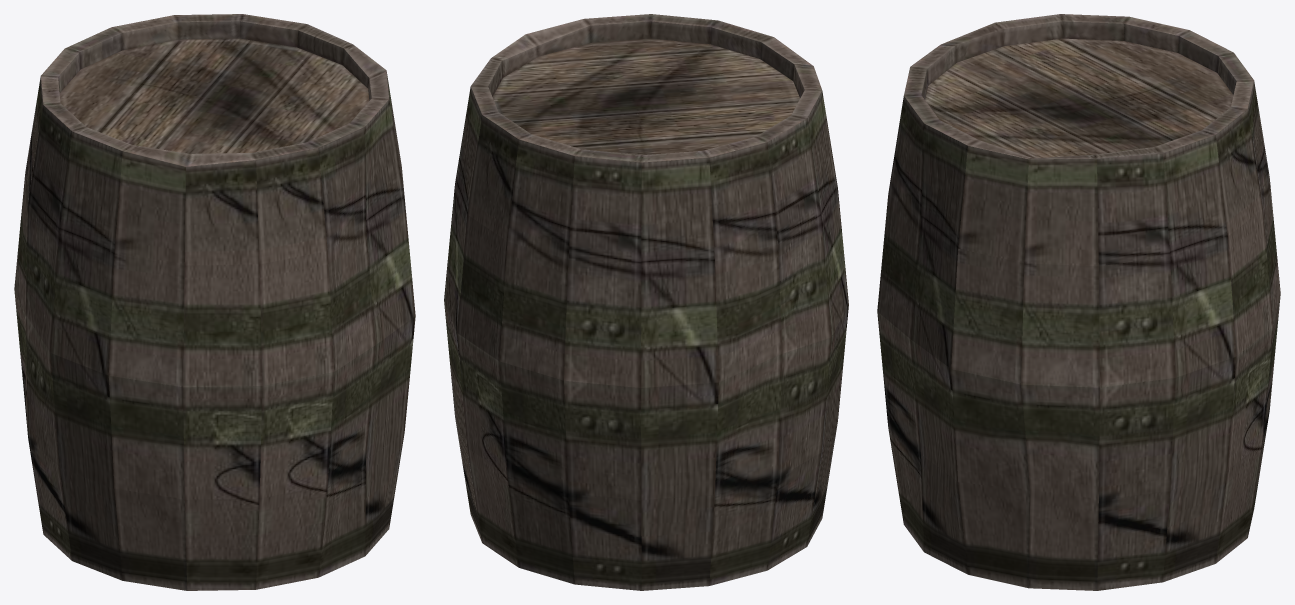
File: Barrel_Oga_Damaged.glb
3 renders of one model, left to right at view 1: azimuth 30°, elevation 25°; view 2: azimuth 150°, elevation 25°; view 3: azimuth 270°, elevation 25°, orthographic.
Parts seen in each view (by area): view 1: Barrel_Oga_Damaged; view 2: Barrel_Oga_Damaged; view 3: Barrel_Oga_Damaged.
Boxes of the visible parts, x1=… form: Barrel_Oga_Damaged: x1=14, y1=14, x2=415, y2=590; Barrel_Oga_Damaged: x1=444, y1=14, x2=848, y2=590; Barrel_Oga_Damaged: x1=877, y1=14, x2=1280, y2=590.
Size of the model in its own units: 0.8082 by 0.95 by 0.8082.
1 material, 1 textured.
